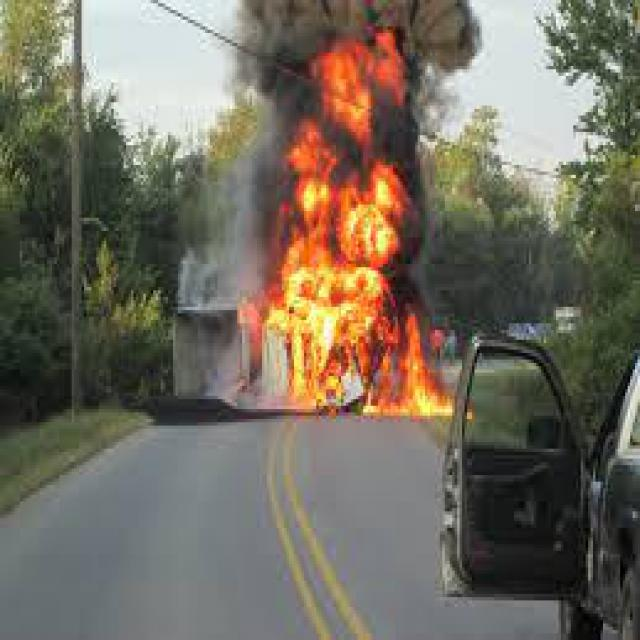fire: (261, 41, 461, 427)
